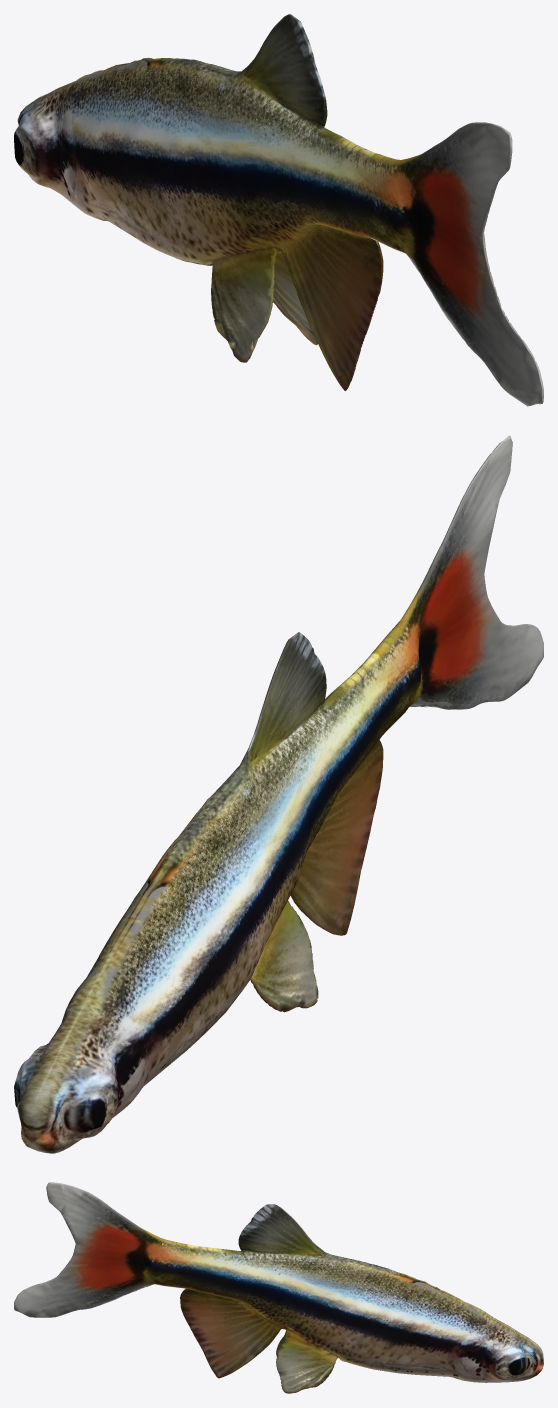
File: uploaded-fish.glb
3 renders of one model, top to bottom at view 1: azimuth 30°, elevation 25°; view 2: azimuth 150°, elevation 25°; view 3: azimuth 270°, elevation 25°, orthographic. The views are drawn at different scales.
Parts seen in each view (by area): view 1: tripo_node_a3719c62-14e7-4308-86cf-c3b06b4da7bd; view 2: tripo_node_a3719c62-14e7-4308-86cf-c3b06b4da7bd; view 3: tripo_node_a3719c62-14e7-4308-86cf-c3b06b4da7bd.
Boxes of the visible parts, box(x1,y1,x2,y2) form: tripo_node_a3719c62-14e7-4308-86cf-c3b06b4da7bd: box(14, 14, 543, 406); tripo_node_a3719c62-14e7-4308-86cf-c3b06b4da7bd: box(14, 435, 543, 1153); tripo_node_a3719c62-14e7-4308-86cf-c3b06b4da7bd: box(14, 1182, 543, 1393).
Size of the model in its own units: 0.1077 by 0.4209 by 0.9995.
Materials: 1 (1 with a texture image).
